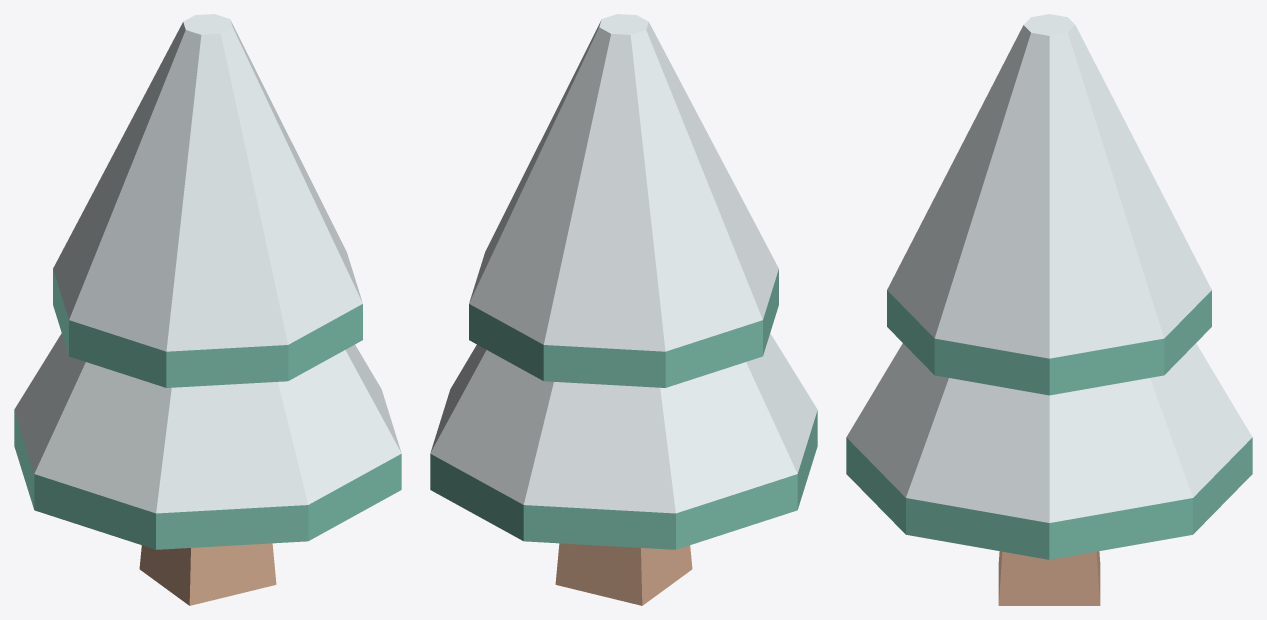
Rendered from TreeSnow.glb.
The picture shows the model from 3 angles, left to right: view 1: azimuth 30°, elevation 25°; view 2: azimuth 150°, elevation 25°; view 3: azimuth 270°, elevation 25°; orthographic projection.
Visible parts, largest first — view 1: snow_detail_treeLarge; view 2: snow_detail_treeLarge; view 3: snow_detail_treeLarge.
Boxes of the visible parts, box(x1,y1,x2,y2) form: snow_detail_treeLarge: box(14, 14, 401, 605); snow_detail_treeLarge: box(430, 14, 817, 605); snow_detail_treeLarge: box(846, 14, 1252, 605).
Bounding box in the file's own units: 0.5 × 0.76 × 0.5.
